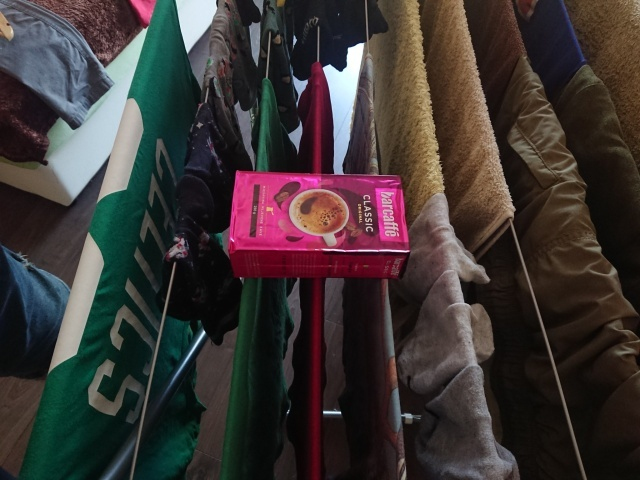Barcaffe Classic Original 225g: (226, 167, 412, 282)
